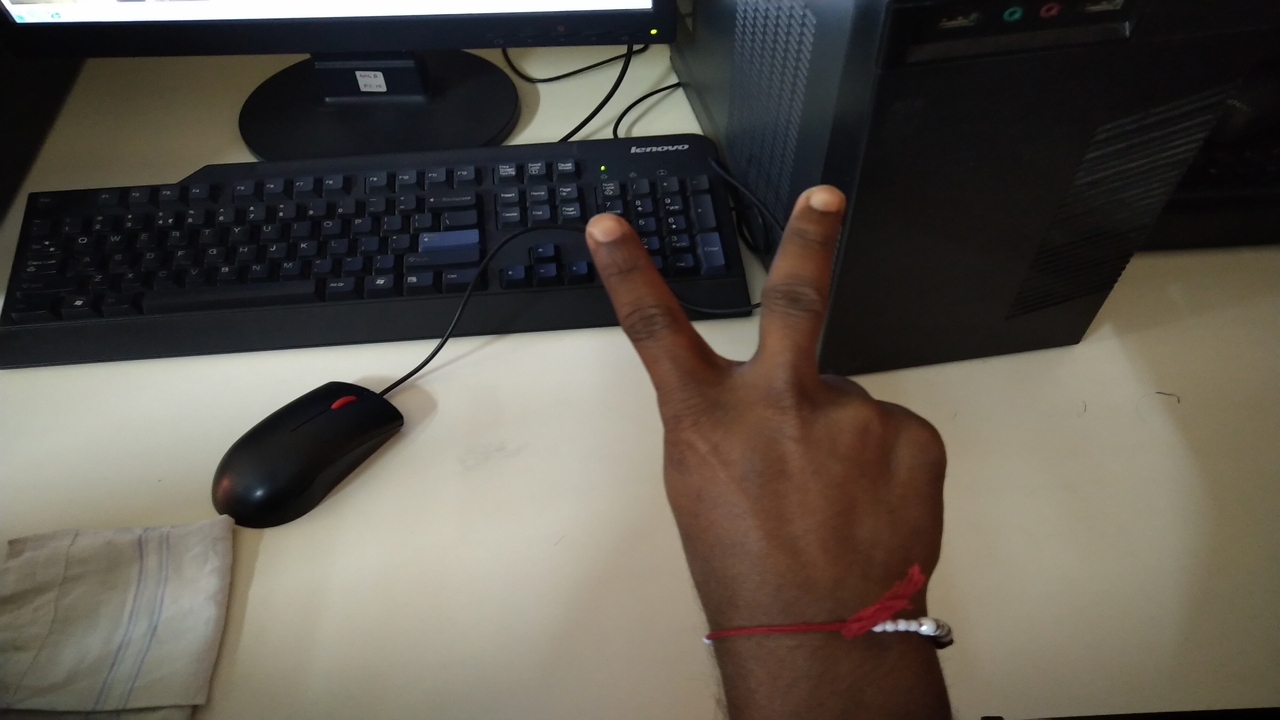fingertip: (790, 172, 852, 232), (584, 212, 640, 264)
